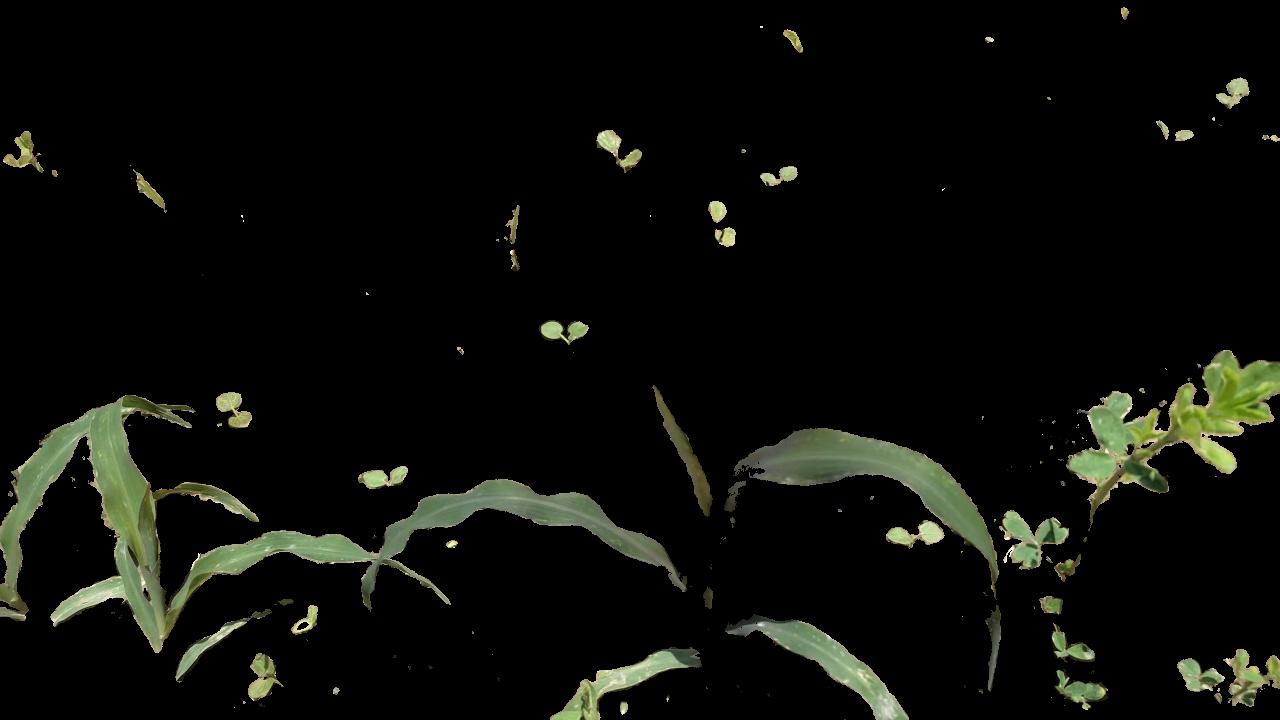crop: (486, 409, 1010, 720), (38, 387, 454, 687)
weed: (1069, 348, 1280, 518), (1169, 639, 1280, 720), (1001, 498, 1065, 563), (9, 121, 54, 194), (886, 512, 953, 560), (594, 126, 647, 183), (529, 310, 596, 355), (205, 382, 250, 433), (1047, 619, 1099, 662), (1050, 671, 1112, 707), (346, 457, 410, 490), (708, 199, 744, 255), (1212, 71, 1249, 122), (245, 655, 282, 705), (1150, 114, 1195, 151), (758, 167, 806, 201)
